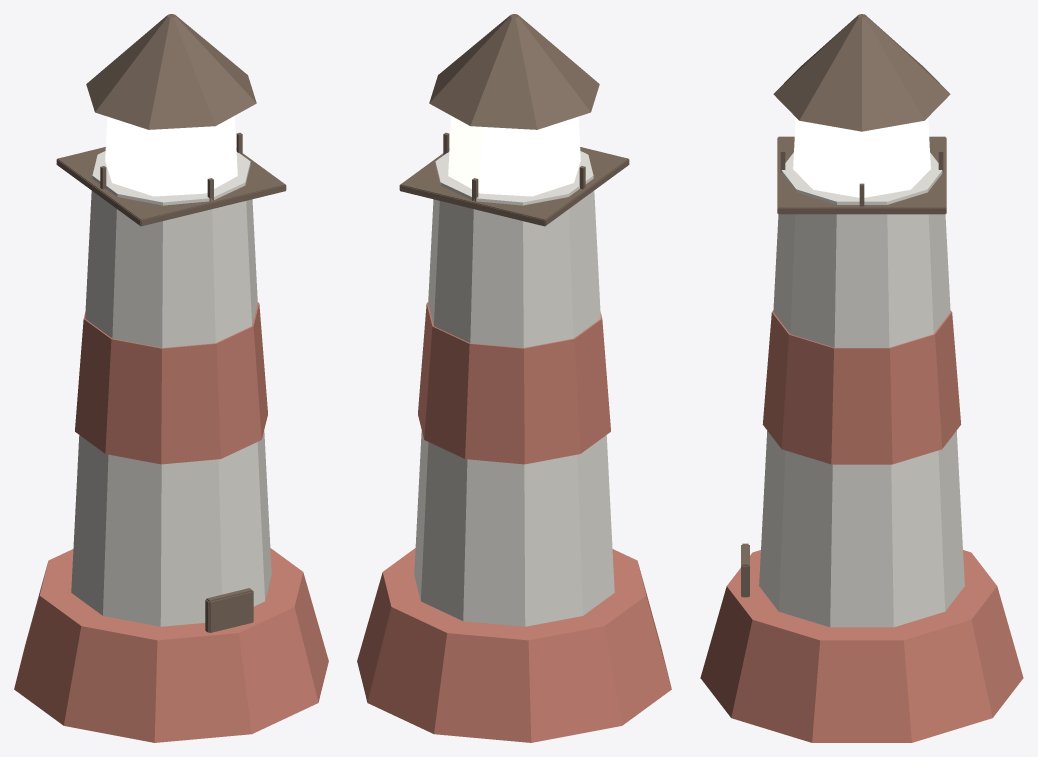
File: lighthouse.glb
3 renders of one model, left to right at view 1: azimuth 30°, elevation 25°; view 2: azimuth 150°, elevation 25°; view 3: azimuth 270°, elevation 25°, orthographic.
Visible parts, largest first — view 1: Tower, Base, Stripe, Cap, Lantern, Gallery, Door; view 2: Tower, Base, Stripe, Cap, Lantern, Gallery; view 3: Tower, Base, Stripe, Cap, Lantern, Gallery.
Part boxes in pixels (left/top/right/bottom): Tower: left=71, top=151, right=271, bottom=626; Base: left=14, top=548, right=328, bottom=742; Stripe: left=75, top=302, right=267, bottom=464; Cap: left=86, top=14, right=256, bottom=129; Lantern: left=105, top=116, right=237, bottom=196; Gallery: left=56, top=147, right=286, bottom=226; Door: left=205, top=588, right=253, bottom=632; Tower: left=414, top=151, right=614, bottom=626; Base: left=357, top=548, right=671, bottom=742; Stripe: left=418, top=302, right=610, bottom=464; Cap: left=429, top=14, right=599, bottom=129; Lantern: left=448, top=116, right=580, bottom=196; Gallery: left=399, top=147, right=629, bottom=226; Tower: left=759, top=152, right=964, bottom=627; Base: left=700, top=550, right=1023, bottom=742; Stripe: left=762, top=310, right=961, bottom=464; Cap: left=773, top=14, right=950, bottom=131; Lantern: left=793, top=117, right=930, bottom=197; Gallery: left=777, top=136, right=946, bottom=214.
Bounding box in the file's own units: 4.09 × 9.72 × 4.3.
